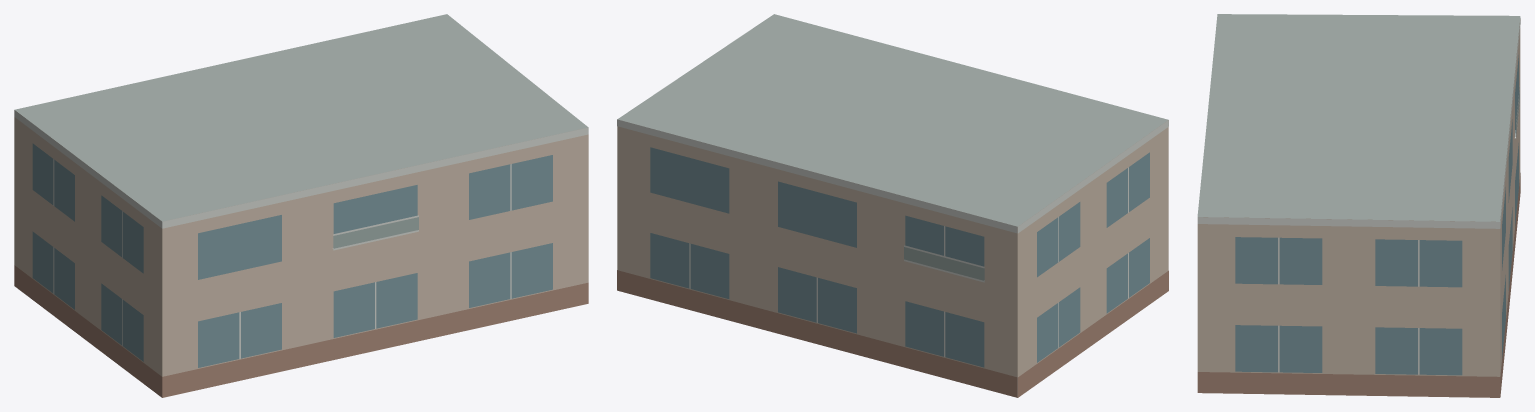
Rendered from survey-upis-32876535.glb.
The picture shows the model from 3 angles, left to right: view 1: azimuth 30°, elevation 25°; view 2: azimuth 150°, elevation 25°; view 3: azimuth 270°, elevation 25°; orthographic projection. The views are drawn at different scales.
Visible parts, largest first — view 1: survey-upis-32876535.tmp; view 2: survey-upis-32876535.tmp; view 3: survey-upis-32876535.tmp.
Boxes of the visible parts, x1,y1,x2,y2 form: survey-upis-32876535.tmp: (14, 14, 588, 397); survey-upis-32876535.tmp: (617, 14, 1168, 397); survey-upis-32876535.tmp: (1197, 14, 1520, 397).
Bounding box in the file's own units: 15.46 × 6.1 × 10.16.
